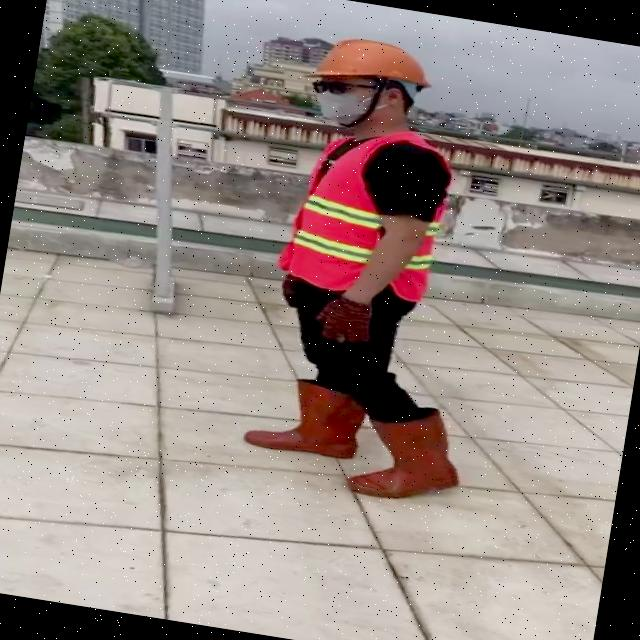boots: (348, 402, 476, 510), (244, 372, 372, 464)
